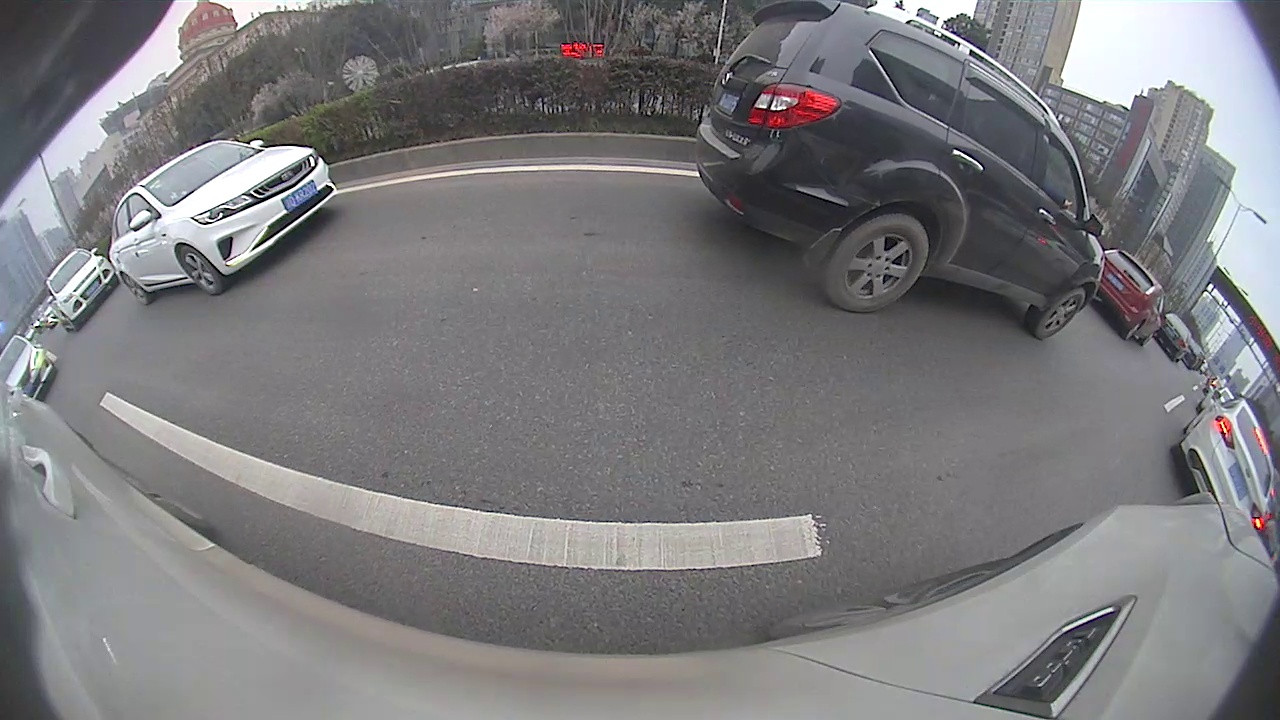car: (695, 1, 1105, 340), (106, 141, 338, 306), (1179, 384, 1276, 531), (1093, 249, 1166, 347), (43, 246, 116, 334), (0, 336, 58, 402)
front: (1033, 287, 1085, 341), (178, 244, 226, 295)
rear: (822, 212, 930, 316), (121, 272, 151, 306), (1122, 319, 1142, 343)
